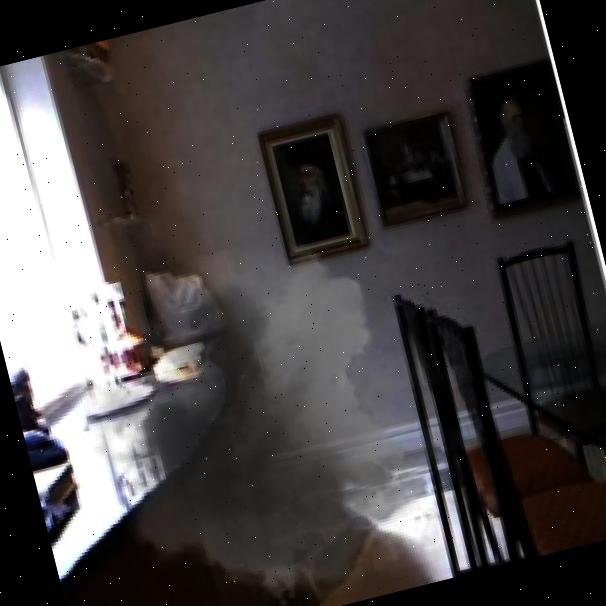smoke: (29, 197, 517, 606)
